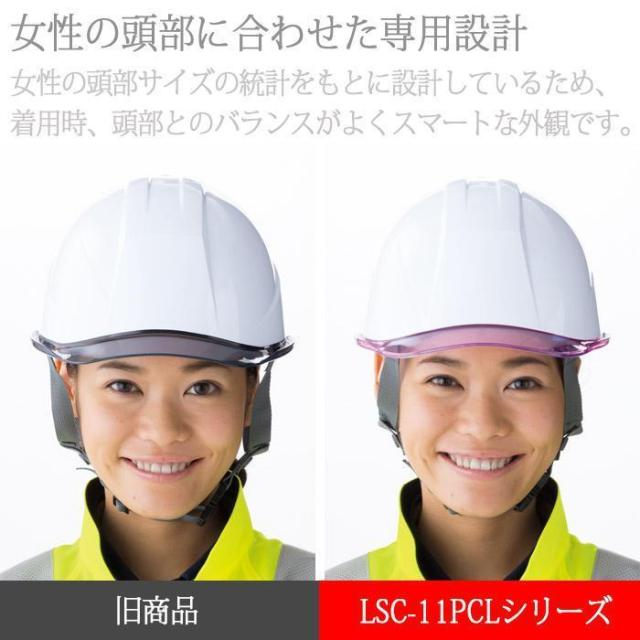helmet: (31, 176, 293, 370), (353, 181, 609, 351)
